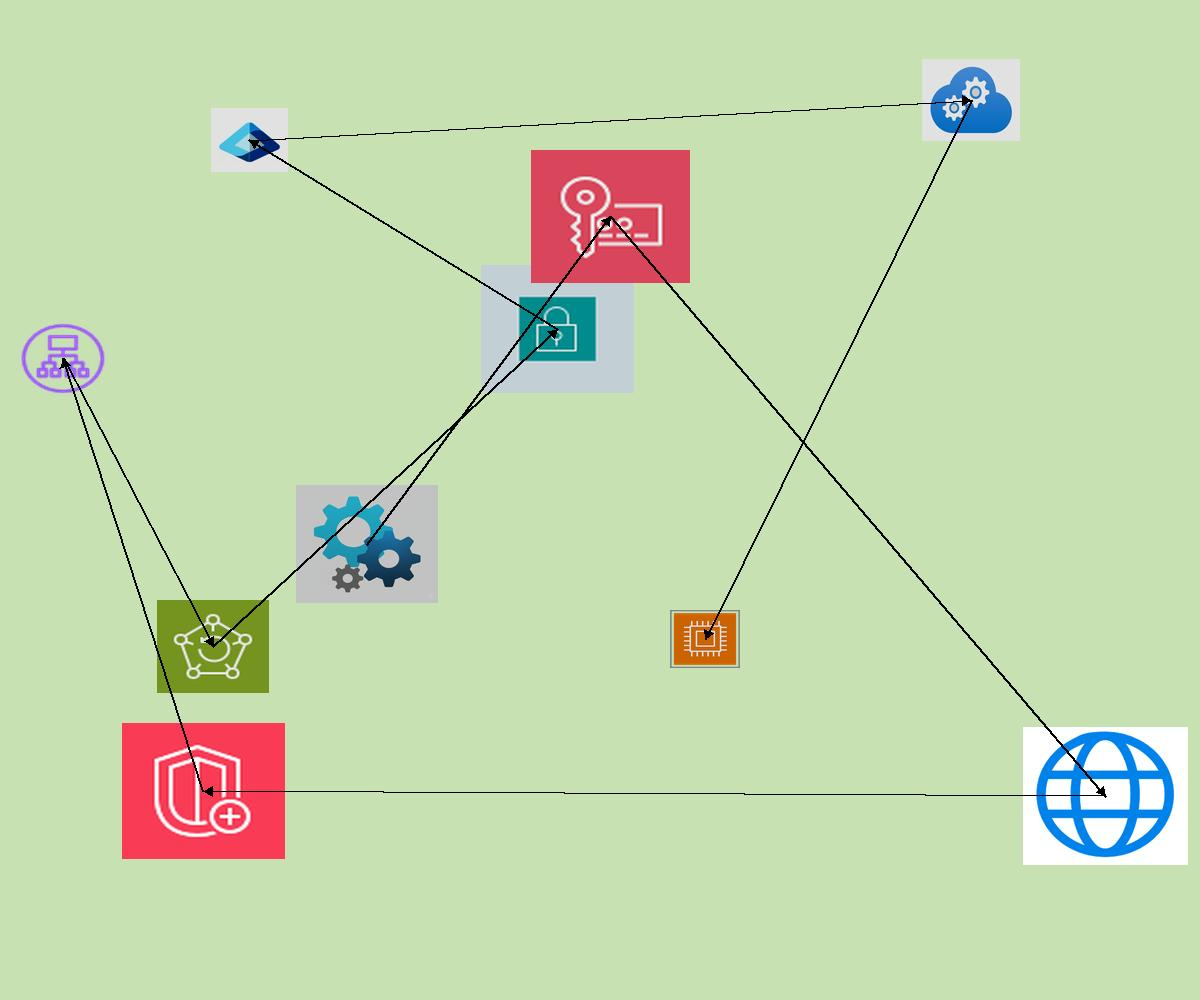AWS-Backup: (157, 600, 269, 693)
AWS-Category_Compute: (670, 610, 740, 668)
AWS-Key-Management-Service: (531, 150, 690, 283)
AWS-Private-subnet: (481, 265, 634, 393)
AWS-Res_Elastic-Load-Balancing_Application-Load-Balancer: (18, 321, 108, 396)
AWS-Shield: (122, 723, 285, 859)
Azure_api: (296, 485, 438, 603)
Azure_cloud_services: (922, 59, 1020, 141)
Azure_http: (1023, 727, 1188, 865)
Azure_microsoft_entra: (211, 108, 288, 172)
